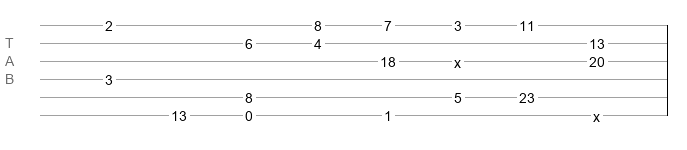0: (245, 108, 253, 118)
1: (384, 108, 392, 118)
11: (519, 18, 535, 28)
13: (171, 108, 187, 118), (589, 36, 605, 46)
18: (380, 54, 396, 64)
2: (105, 18, 113, 28)
20: (589, 54, 605, 64)
23: (519, 90, 535, 100)
3: (105, 72, 113, 82), (454, 18, 462, 28)
4: (314, 36, 322, 46)
5: (454, 90, 462, 100)
6: (245, 36, 253, 46)
7: (384, 18, 392, 28)
8: (245, 90, 253, 100), (314, 18, 322, 28)
x: (454, 55, 461, 63), (593, 109, 600, 117)
